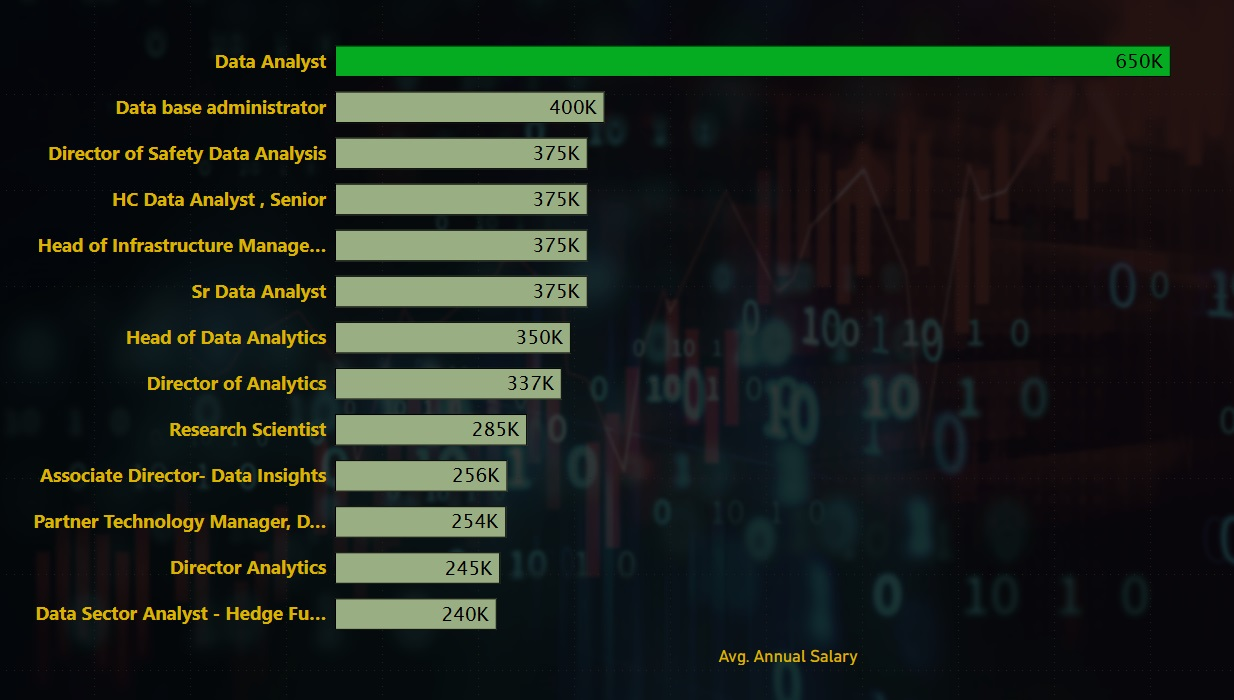

What the dashboard file says about the page in this screenshot:
{"tool":"powerbi","page":{"name":"Q1 - Top Paying DA Jobs","canvas":[1280,720],"ordinal":0},"visuals":[{"type":"clusteredBarChart","fields":{"Category":["1_top10_high_salary_jobs (2).job_title"],"Y":["Sum(1_top10_high_salary_jobs (2).annual_salary)"]},"box":[208,120,1056,576],"z":0},{"type":"textbox","box":[168,16,816,80],"z":1000},{"type":"actionButton","box":[0,120,168,40],"z":2000},{"type":"actionButton","box":[0,176,168,40],"z":3000},{"type":"actionButton","box":[0,224,168,40],"z":4000},{"type":"actionButton","box":[0,280,168,40],"z":5000},{"type":"actionButton","box":[0,336,168,40],"z":6000},{"type":"actionButton","box":[16,16,48,40],"z":6003},{"type":"actionButton","box":[72,40,40,32],"z":6004}]}

Visuals, with their boxes in screenshot pixels (x1, y1, x2, y2), scaled from the page's 1280x720 canvas onto the 1234x700 screenshot:
clusteredBarChart - 1_top10_high_salary_jobs (2).job_title x Sum(1_top10_high_salary_jobs (2).annual_salary): 201,117,1219,677
textbox: 162,16,949,93
actionButton: 0,117,162,156
actionButton: 0,171,162,210
actionButton: 0,218,162,257
actionButton: 0,272,162,311
actionButton: 0,327,162,366
actionButton: 15,16,62,54
actionButton: 69,39,108,70
